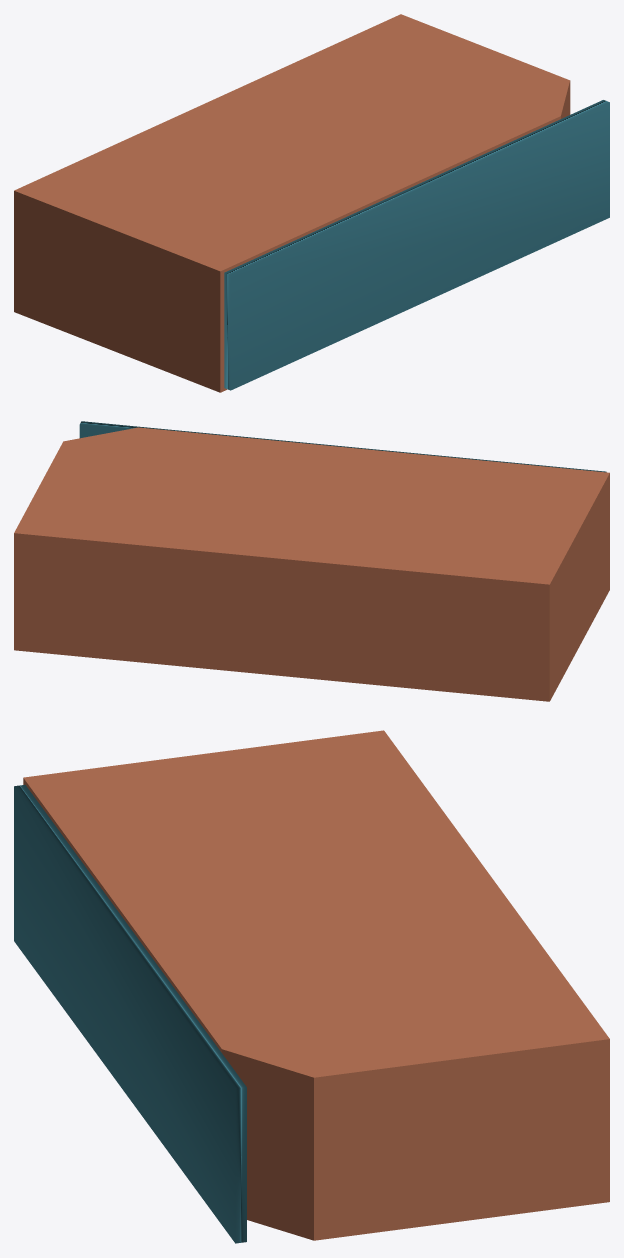
The model's file is lake-glazur-shallows-0.glb.
3 views of the same model, one above another, from view 1: azimuth 30°, elevation 25°; view 2: azimuth 150°, elevation 25°; view 3: azimuth 270°, elevation 25° (orthographic). The views are drawn at different scales.
Visible parts, largest first — view 1: lake-glazur-shallows-0; view 2: lake-glazur-shallows-0; view 3: lake-glazur-shallows-0.
Boxes of the visible parts, bbox=[...] form: lake-glazur-shallows-0: bbox=[14, 14, 609, 392]; lake-glazur-shallows-0: bbox=[14, 421, 609, 701]; lake-glazur-shallows-0: bbox=[14, 730, 609, 1243].
Size of the model in its own units: 0.2796 by 0.06 by 0.1988.
